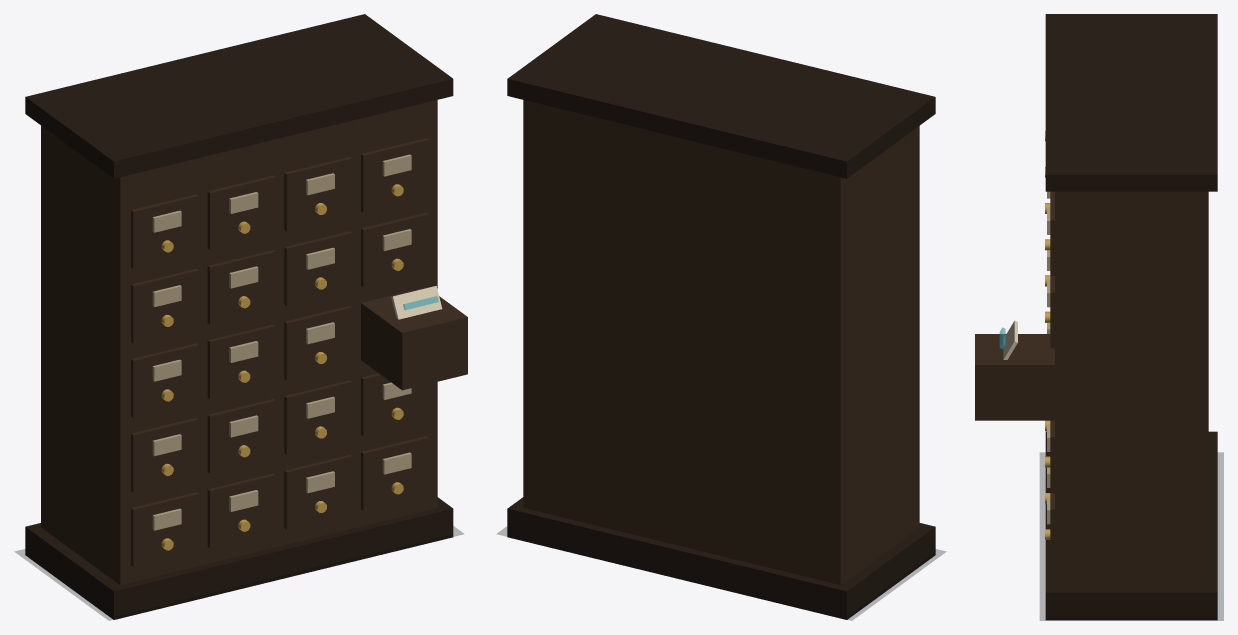
Rendered from hp_room_desire_card_catalog.glb.
3 renders of one model, left to right at view 1: azimuth 30°, elevation 25°; view 2: azimuth 150°, elevation 25°; view 3: azimuth 270°, elevation 25°, orthographic. The views are drawn at different scales.
Visible parts, largest first — view 1: carcass, crown, plinth, open_drawer, drawer_4_3, drawer_0_3, drawer_3_3, drawer_3_1, drawer_0_1, drawer_1_1, drawer_2_0, drawer_2_1 (+13 smaller); view 2: carcass, crown, plinth, contact_shadow; view 3: carcass, crown, plinth, open_drawer, contact_shadow, drawer_4_3, open_card, drawer_0_3, drawer_1_3, drawer_3_3, drawer_2_3.
Boxes of the visible parts, x1=… form: carcass: x1=41, y1=100, x2=437, y2=585; crown: x1=25, y1=14, x2=453, y2=178; plinth: x1=25, y1=497, x2=453, y2=619; open_drawer: x1=361, y1=287, x2=467, y2=390; drawer_4_3: x1=361, y1=138, x2=429, y2=212; drawer_0_3: x1=361, y1=436, x2=429, y2=510; drawer_3_3: x1=361, y1=212, x2=429, y2=287; drawer_3_1: x1=207, y1=250, x2=275, y2=324; drawer_0_1: x1=207, y1=473, x2=275, y2=548; drawer_1_1: x1=207, y1=399, x2=275, y2=473; drawer_2_0: x1=131, y1=343, x2=199, y2=417; drawer_2_1: x1=207, y1=324, x2=275, y2=399; carcass: x1=523, y1=100, x2=919, y2=585; crown: x1=507, y1=14, x2=935, y2=178; plinth: x1=507, y1=497, x2=935, y2=619; contact_shadow: x1=497, y1=527, x2=945, y2=620; carcass: x1=1055, y1=191, x2=1208, y2=587; crown: x1=1045, y1=14, x2=1217, y2=191; plinth: x1=1045, y1=431, x2=1217, y2=620; open_drawer: x1=975, y1=334, x2=1054, y2=420; contact_shadow: x1=1040, y1=452, x2=1223, y2=620; drawer_4_3: x1=1050, y1=191, x2=1054, y2=275; open_card: x1=1003, y1=320, x2=1017, y2=359; drawer_0_3: x1=1050, y1=493, x2=1054, y2=565; drawer_1_3: x1=1050, y1=420, x2=1054, y2=492; drawer_3_3: x1=1050, y1=276, x2=1054, y2=348; drawer_2_3: x1=1050, y1=348, x2=1054, y2=420.
Bounding box in the file's own units: 1.3 × 1.6 × 0.81.
